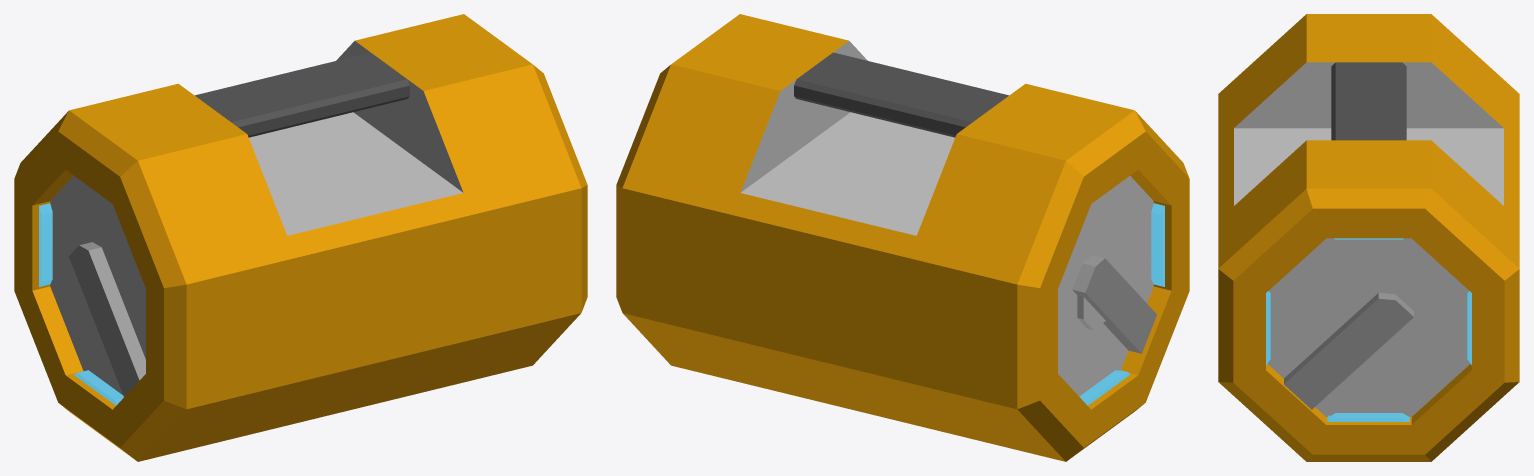
The model's file is SM_LA01_Battery.fbx.
3 renders of one model, left to right at view 1: azimuth 30°, elevation 25°; view 2: azimuth 150°, elevation 25°; view 3: azimuth 270°, elevation 25°, orthographic. The views are drawn at different scales.
Parts seen in each view (by area): view 1: SM_LA01_Battery; view 2: SM_LA01_Battery; view 3: SM_LA01_Battery.
Boxes of the visible parts, bbox=[...] form: SM_LA01_Battery: bbox=[14, 14, 587, 461]; SM_LA01_Battery: bbox=[616, 14, 1189, 461]; SM_LA01_Battery: bbox=[1218, 14, 1519, 461].
Bounding box in the file's own units: 19 × 12.91 × 12.91.
